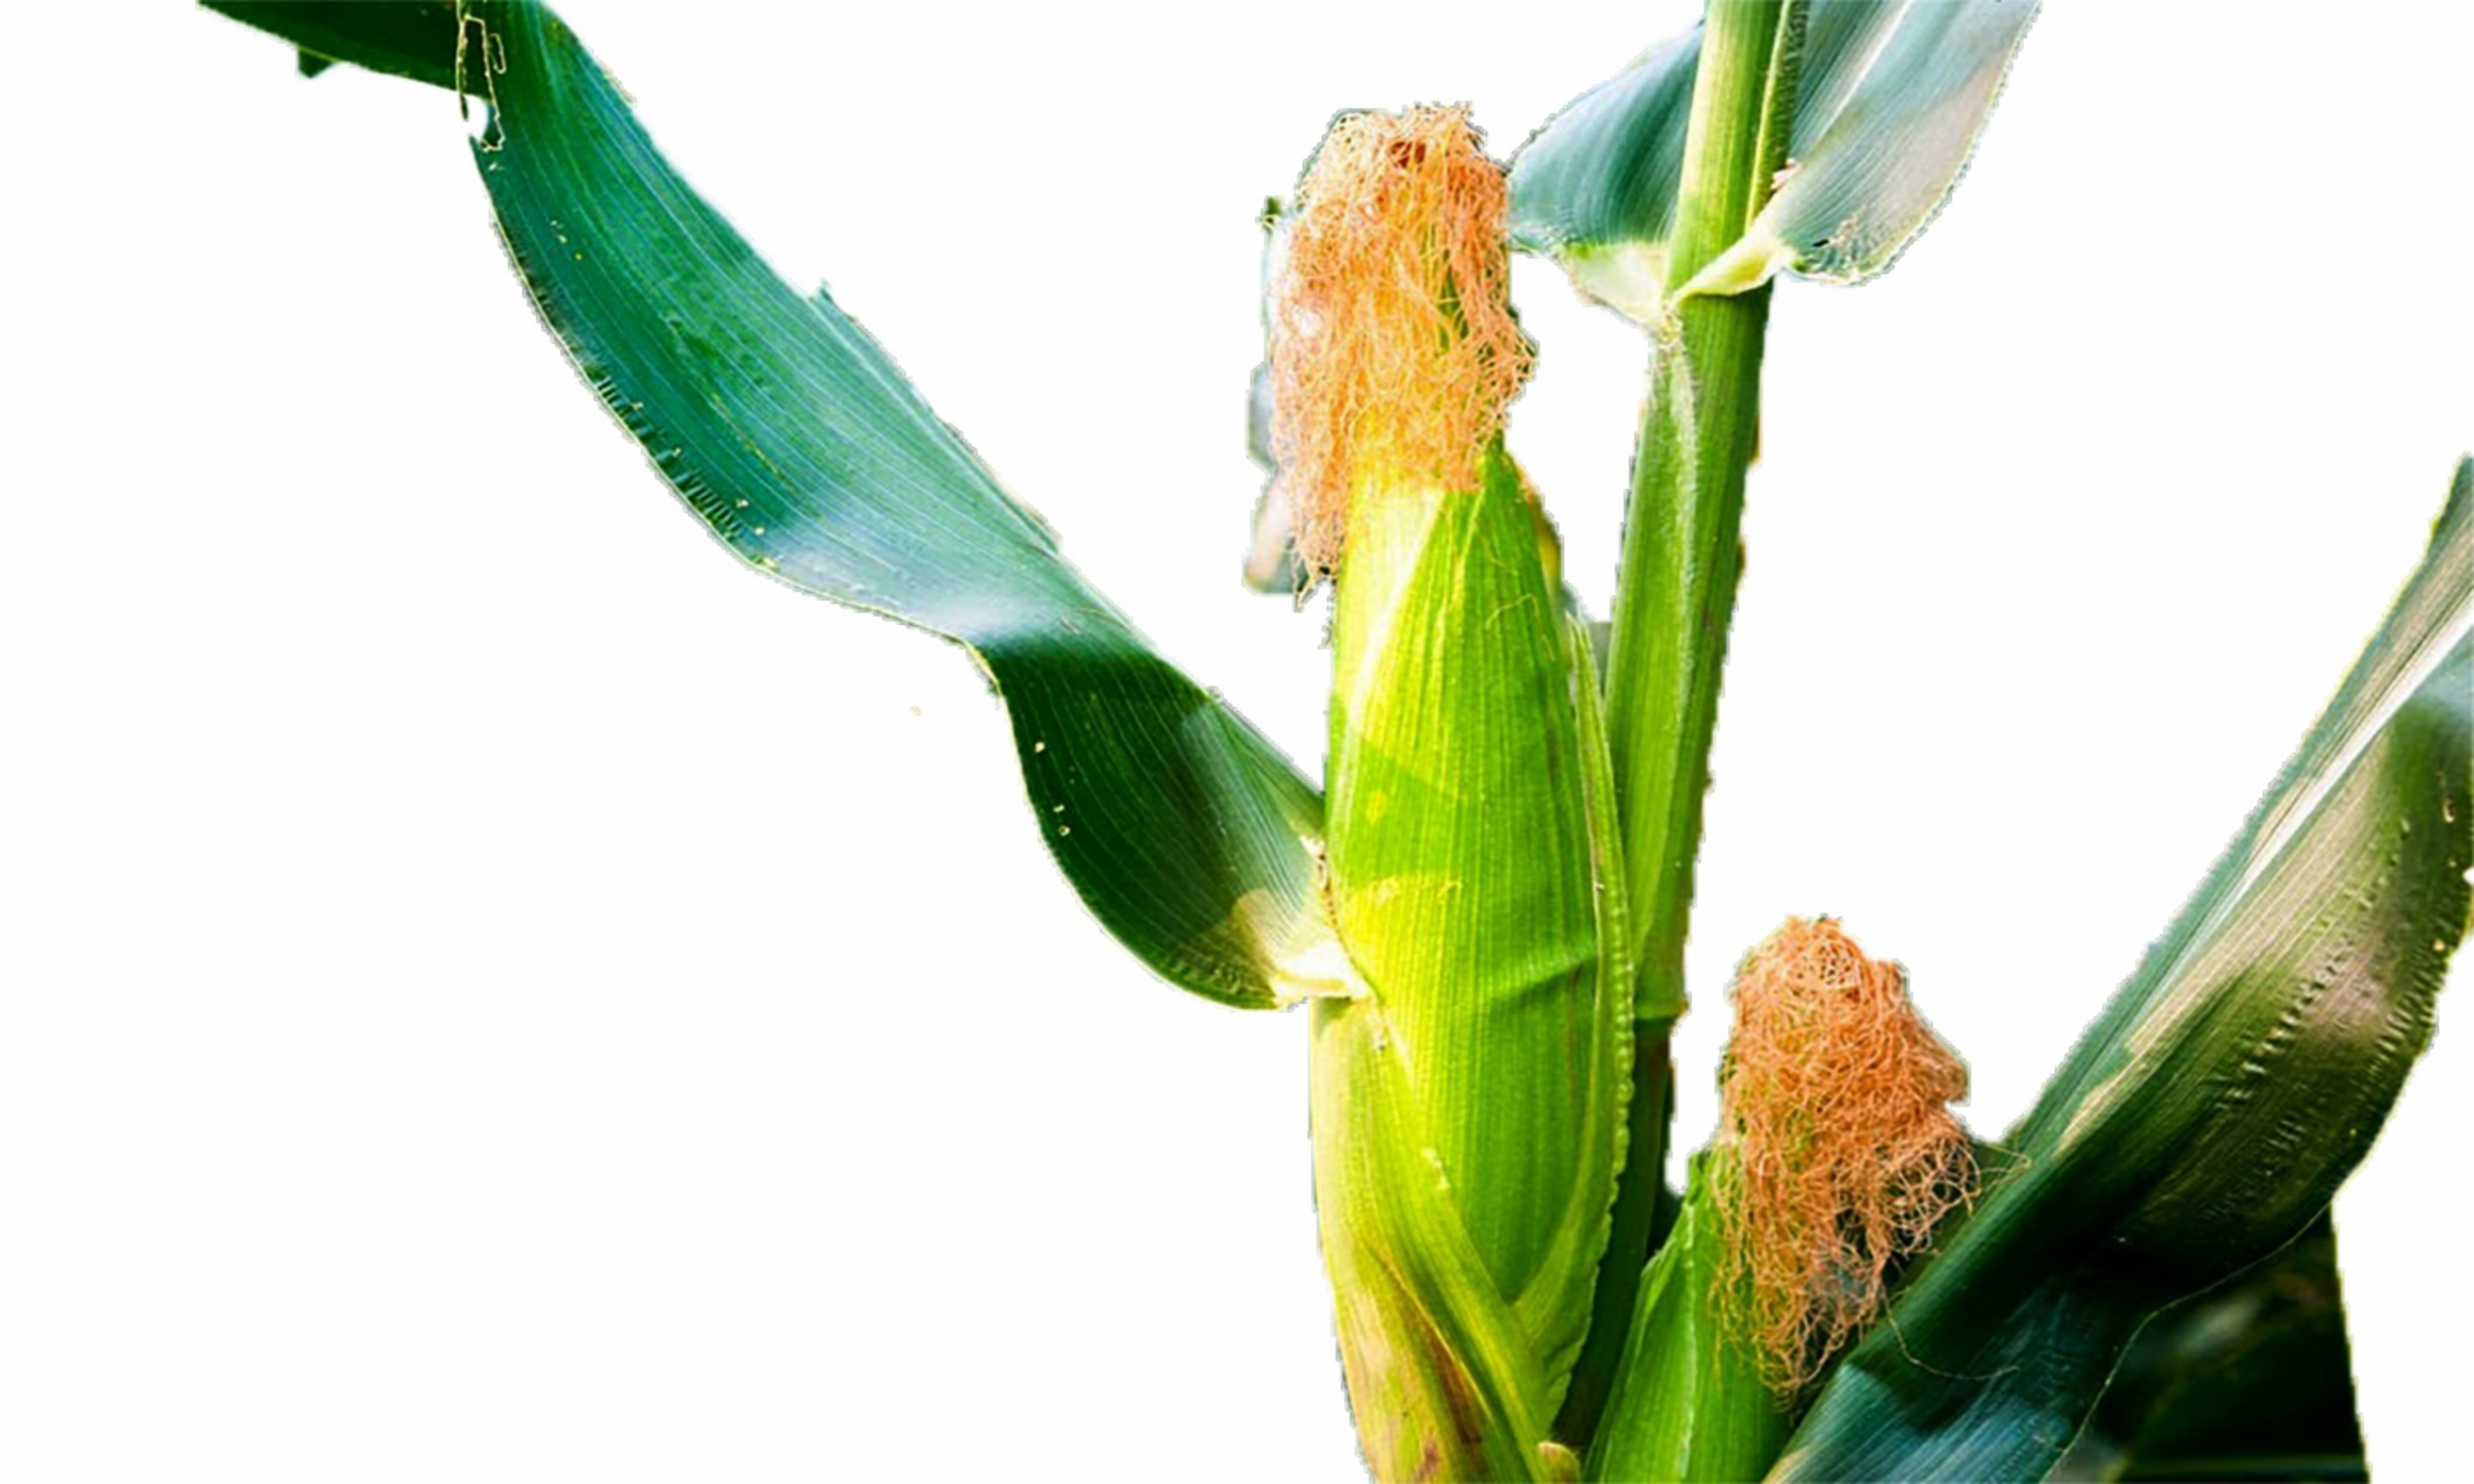corn_plant: (1153, 72, 1623, 1450)
